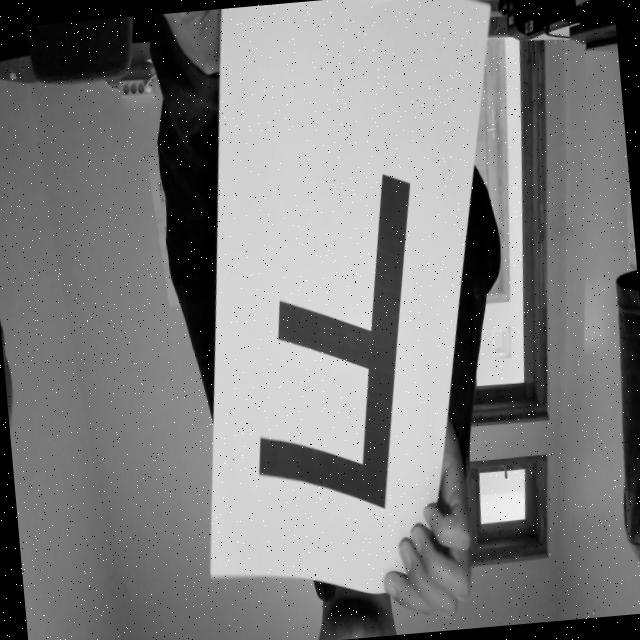f: (222, 105, 446, 537)
